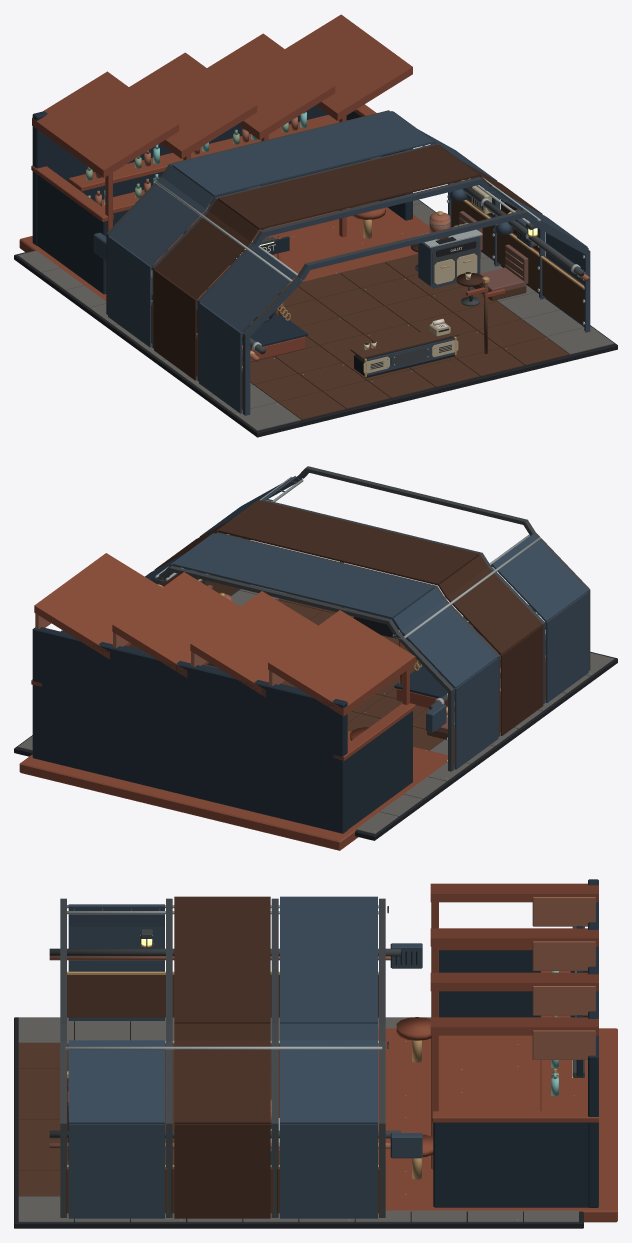
Rendered from candara-bar.glb.
3 views of the same model, one above another, from view 1: azimuth 30°, elevation 25°; view 2: azimuth 150°, elevation 25°; view 3: azimuth 270°, elevation 25° (orthographic). The views are drawn at different scales.
Visible parts, largest first — view 1: candara-bar; view 2: candara-bar; view 3: candara-bar.
Boxes of the visible parts, bbox=[...] form: candara-bar: bbox=[14, 14, 617, 437]; candara-bar: bbox=[14, 466, 617, 850]; candara-bar: bbox=[14, 879, 617, 1228].
Size of the model in its own units: 17.08 by 7.39 by 21.15.
Materials: 23 (20 with a texture image).
